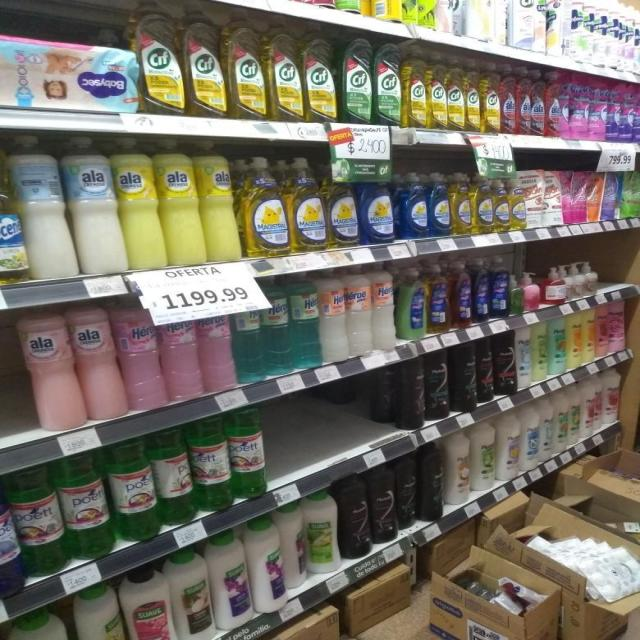ala_conc_rojo: (546, 72, 561, 138), (501, 72, 516, 135), (516, 72, 530, 136), (531, 72, 545, 136)
ala_crem_amarillo: (118, 137, 160, 270), (160, 137, 200, 266), (200, 140, 239, 262)
ala_crem_blanco: (68, 135, 120, 275)
ala_crem_rosado: (21, 308, 80, 430), (76, 300, 122, 421)
cif_conc_bot_amarilla: (138, 0, 182, 116), (184, 3, 224, 118), (226, 10, 265, 119), (267, 18, 302, 122), (304, 27, 337, 124), (403, 54, 427, 129), (428, 64, 446, 130), (482, 72, 500, 134), (447, 67, 464, 131), (465, 69, 480, 133)
cif_conc_botella_verde: (340, 36, 372, 124), (374, 42, 402, 126), (334, 0, 363, 13)
heroe: (119, 295, 163, 410), (200, 297, 232, 392), (290, 272, 319, 368), (232, 291, 262, 382), (262, 277, 289, 373), (320, 268, 346, 362), (347, 264, 371, 356), (372, 263, 396, 350)
magistral_con_amarillo: (242, 156, 288, 258), (290, 156, 326, 252), (326, 159, 358, 248), (472, 172, 493, 234), (451, 172, 471, 235), (493, 173, 510, 233), (510, 172, 525, 230)
magistral_con_azul: (361, 165, 395, 245), (400, 172, 428, 239), (429, 172, 450, 237)
zorro: (397, 266, 427, 340), (428, 263, 450, 334), (451, 260, 472, 328)
